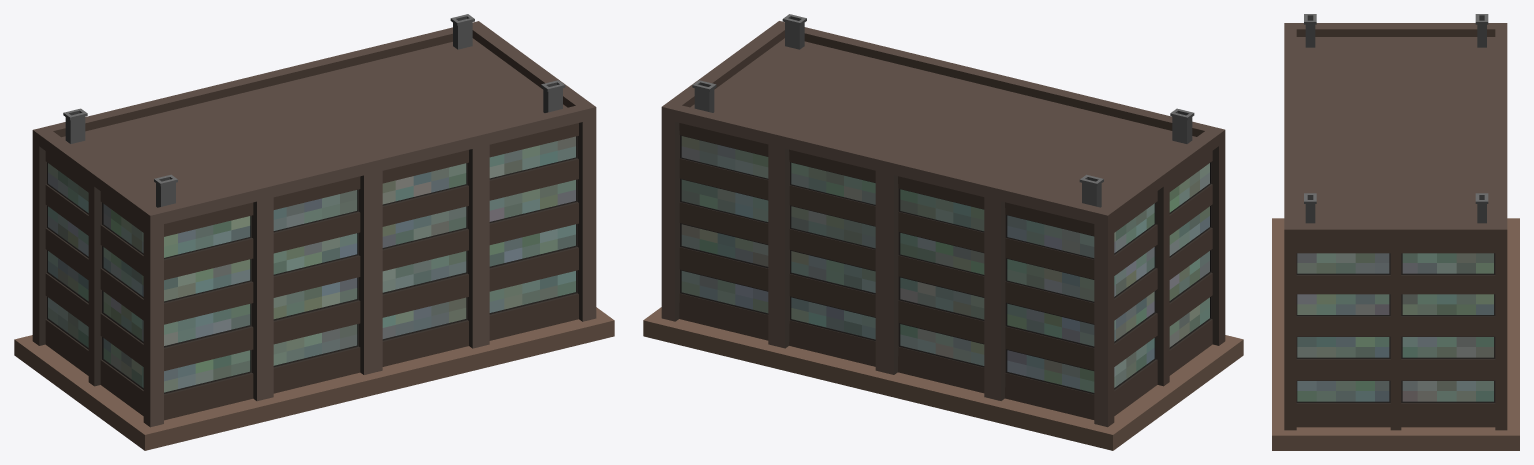
3 renders of one model, left to right at view 1: azimuth 30°, elevation 25°; view 2: azimuth 150°, elevation 25°; view 3: azimuth 270°, elevation 25°, orthographic. The views are drawn at different scales.
Parts seen in each view (by area): view 1: base.156; view 2: base.156; view 3: base.156.
Boxes of the visible parts, bbox=[...] form: base.156: bbox=[14, 14, 614, 450]; base.156: bbox=[643, 14, 1243, 450]; base.156: bbox=[1272, 14, 1519, 450].
Size of the model in its own units: 0.5 by 0.2512 by 0.2407.
